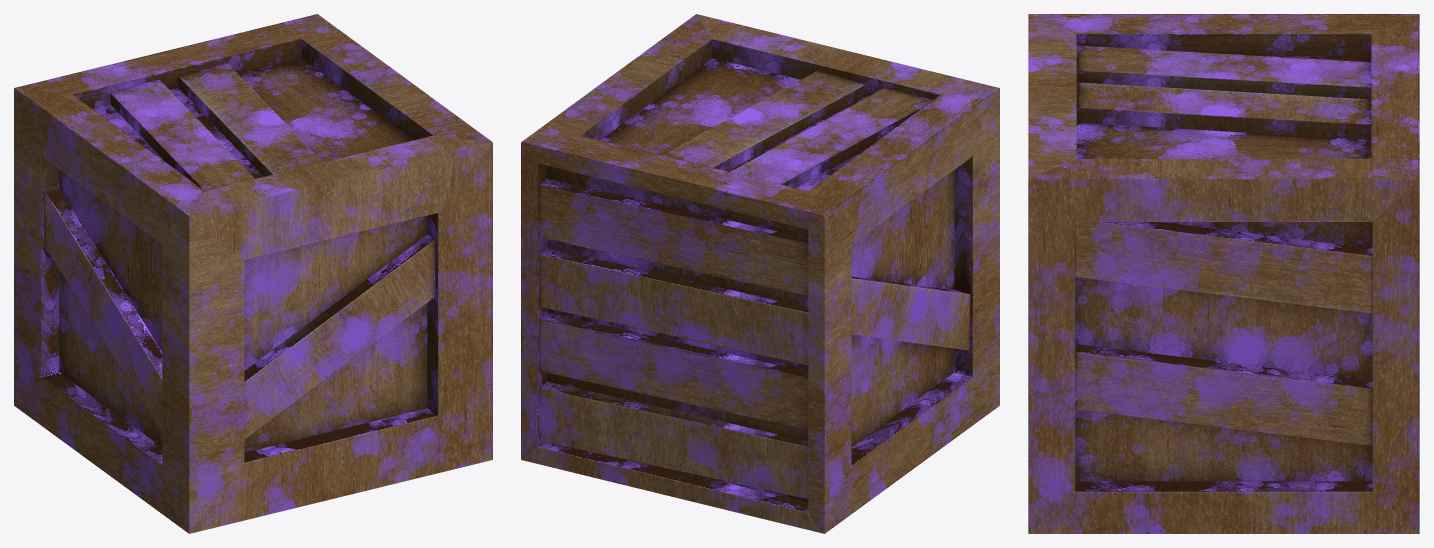
File: box3blue.glb
3 renders of one model, left to right at view 1: azimuth 30°, elevation 25°; view 2: azimuth 150°, elevation 25°; view 3: azimuth 270°, elevation 25°, orthographic. The views are drawn at different scales.
Parts seen in each view (by area): view 1: Cube, Cube.001, Cube.002, Cube.003, Cube.004; view 2: Cube, Cube.009, Cube.012, Cube.010, Cube.011, Cube.003, Cube.004, Cube.002; view 3: Cube, Cube.007, Cube.006, Cube.003, Cube.004.
Part boxes in pixels (x1,y1,x2,y2): Cube: (14,14,492,533); Cube.001: (244,234,435,439); Cube.002: (43,186,162,433); Cube.003: (178,63,322,176); Cube.004: (110,79,254,191); Cube: (521,14,999,533); Cube.009: (539,312,808,429); Cube.012: (539,381,808,498); Cube.010: (539,248,808,365); Cube.011: (539,178,808,295); Cube.003: (662,70,867,171); Cube.004: (730,87,932,187); Cube.002: (851,276,970,350); Cube: (1028,14,1419,533); Cube.007: (1075,344,1372,445); Cube.006: (1075,222,1372,313); Cube.003: (1076,82,1371,139); Cube.004: (1076,45,1371,99).
Size of the model in its own units: 2 by 2 by 2.
Materials: 1 (1 with a texture image).
